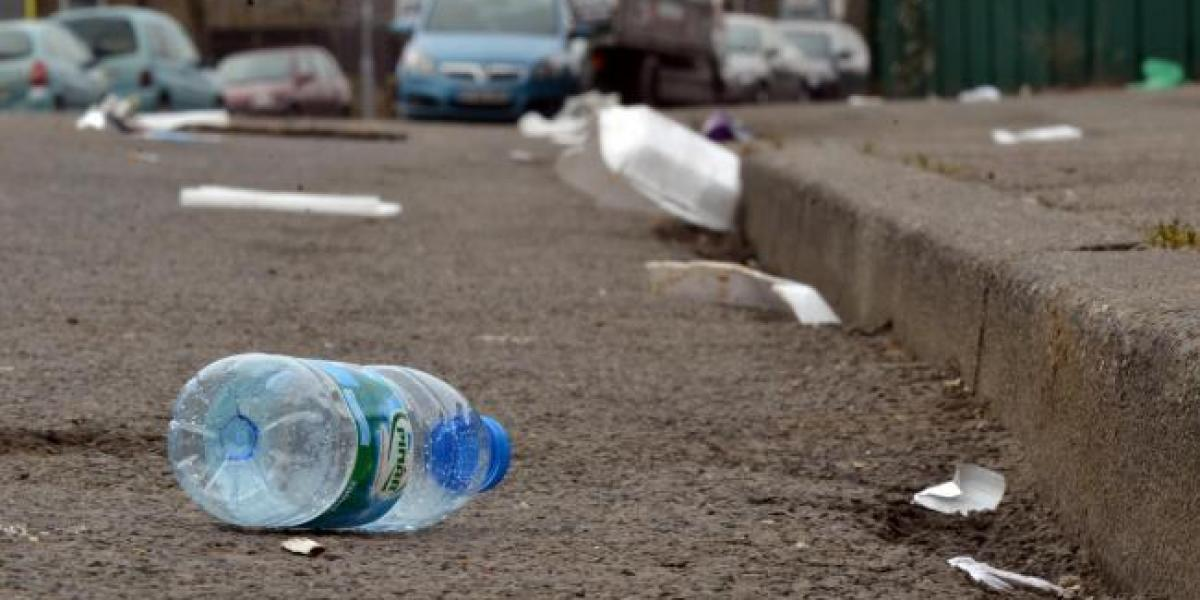bottle: (161, 353, 514, 547)
